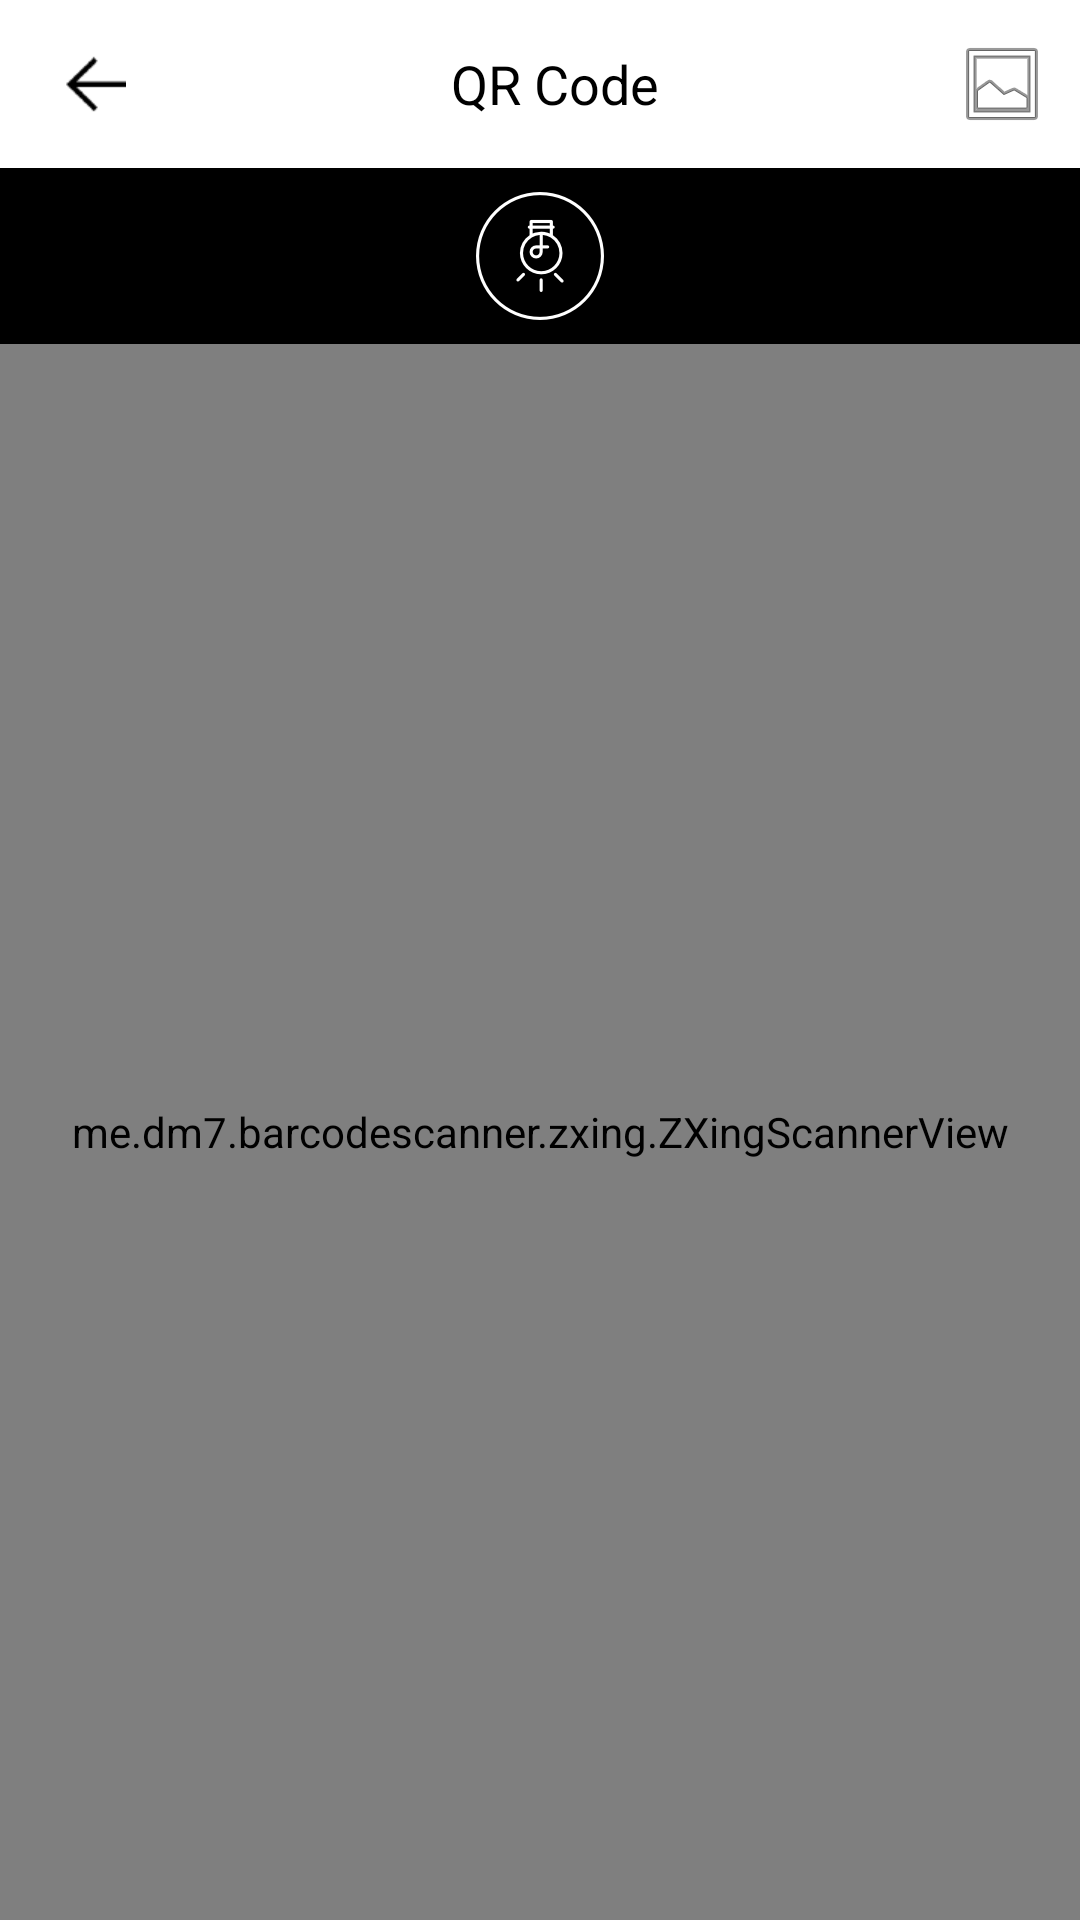

Icon bounding boxes for this 1080*1920 phone screenshot, format (x1, y1, x2, y2):
back arrow: (66, 57, 126, 112)
gallery: (966, 48, 1038, 120)
torch: (476, 192, 604, 320)
